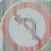Don't turn left: (6, 5, 50, 50)
